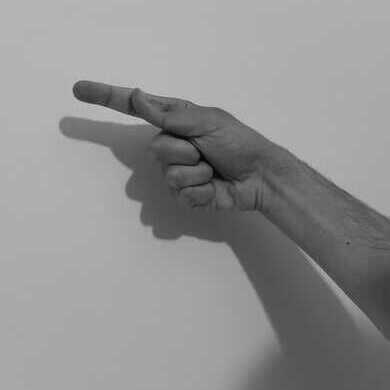G: (71, 79, 287, 214)
